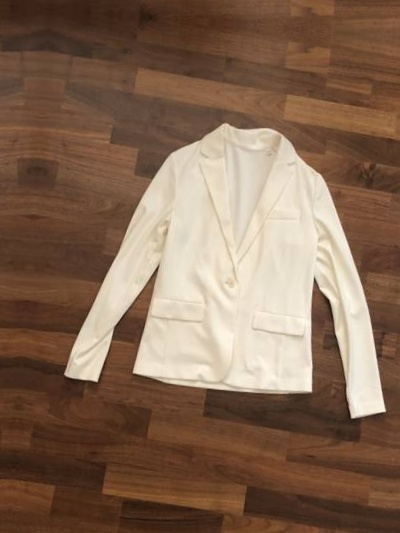Blazer: (51, 95, 400, 448), (0, 63, 9, 416)
